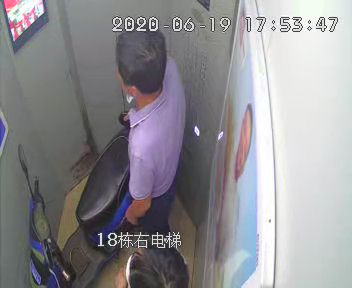Electric-bicycle: (15, 108, 134, 284)
